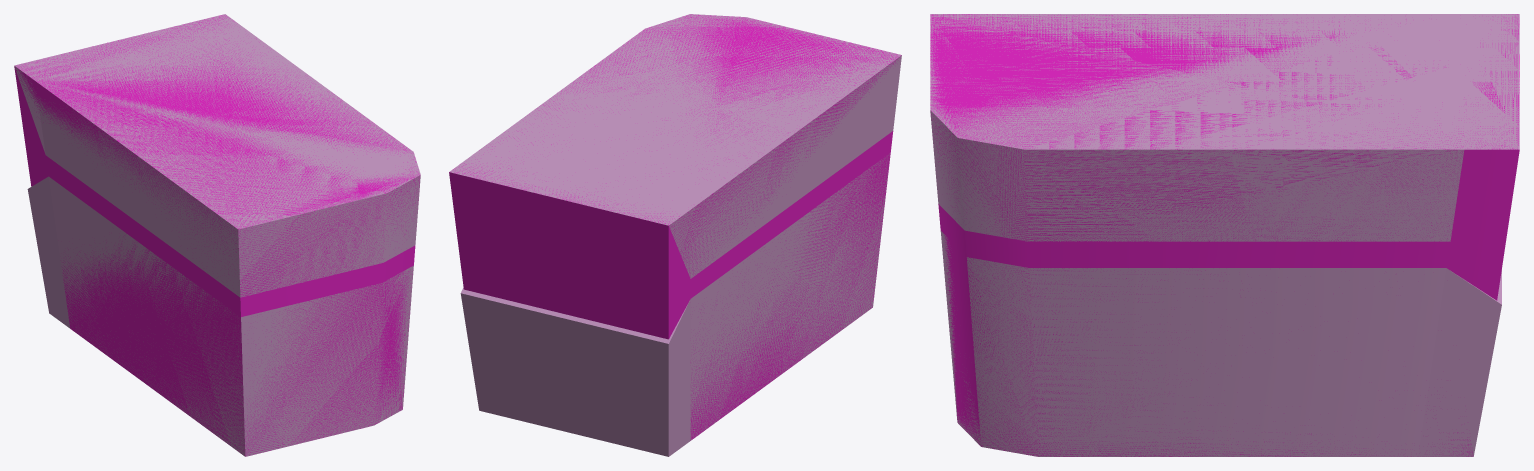
File: building8.fbx
3 renders of one model, left to right at view 1: azimuth 30°, elevation 25°; view 2: azimuth 150°, elevation 25°; view 3: azimuth 270°, elevation 25°, orthographic. The views are drawn at different scales.
Visible parts, largest first — view 1: building8_MESH, building8_COL; view 2: building8_MESH, building8_COL; view 3: building8_MESH, building8_COL.
Boxes of the visible parts, <box> form: building8_MESH: <box>14,14,420,456</box>; building8_COL: <box>14,15,420,456</box>; building8_MESH: <box>449,14,901,456</box>; building8_COL: <box>449,14,901,440</box>; building8_MESH: <box>930,14,1519,456</box>; building8_COL: <box>930,14,1519,456</box>.
Bounding box in the file's own units: 790 × 1453 × 856.
